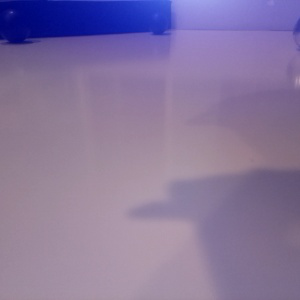dead_ball: (1, 10, 32, 43), (147, 12, 170, 34)
